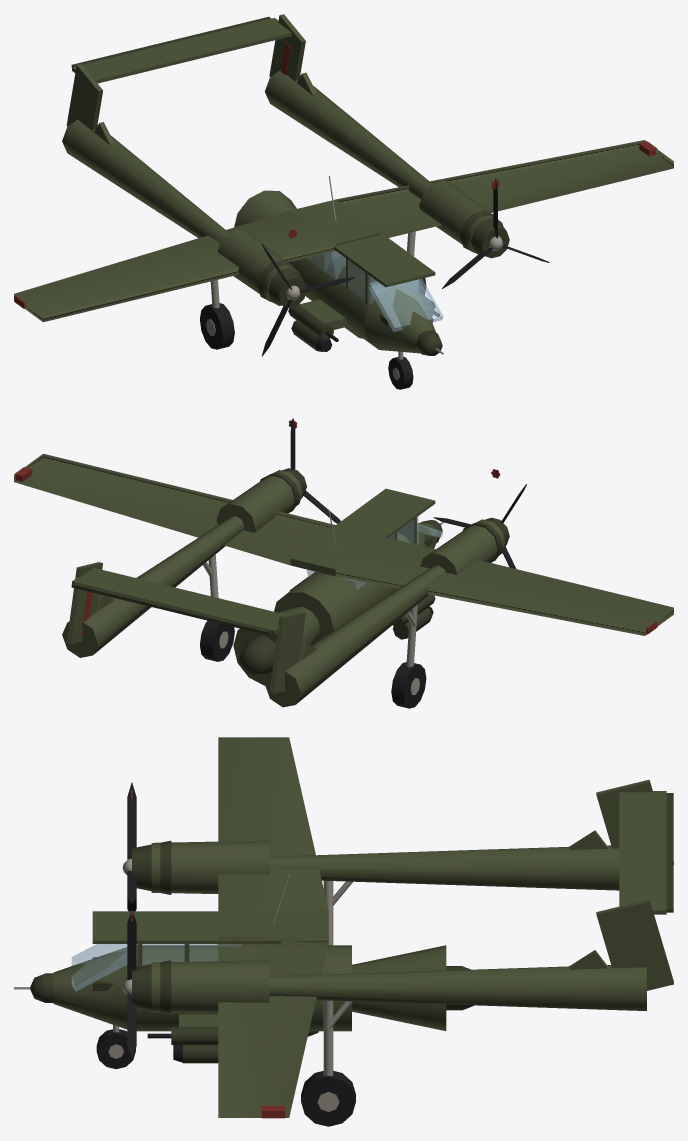
File: ov-10-bronco-forward.glb
3 views of the same model, one above another, from view 1: azimuth 30°, elevation 25°; view 2: azimuth 150°, elevation 25°; view 3: azimuth 270°, elevation 25° (orthographic). The views are drawn at different scales.
Visible parts, largest first — view 1: Mesh_MainWingRight, Mesh_MainWingLeft, Mesh_BoomL, Mesh_BoomR, Mesh_Tailplane, Mesh_PodNoseTaper, Mesh_PodCabinBase, Mesh_FrameTop, Mesh_NacelleL, Mesh_CanopyFront, Mesh_NacelleR, Mesh_WingCenter (+12 smaller); view 2: Mesh_MainWingRight, Mesh_MainWingLeft, Mesh_BoomR, Mesh_BoomL, Mesh_Tailplane, Mesh_PodCabinBase, Mesh_NacelleL, Mesh_FrameTop, Mesh_NacelleR, Mesh_WingCenter, Mesh_FinR, Mesh_Elevator (+8 smaller); view 3: Mesh_MainWingRight, Mesh_MainWingLeft, Mesh_BoomL, Mesh_BoomR, Mesh_Tailplane, Mesh_NacelleL, Mesh_NacelleR, Mesh_FrameTop, Mesh_FinL, Mesh_PodNoseTaper, Mesh_PodCabinBase, Mesh_PodRearTaper (+15 smaller).
Boxes of the visible parts, left/top/right/bottom form: Mesh_MainWingRight: left=14, top=210, right=335, bottom=322; Mesh_MainWingLeft: left=336, top=140, right=673, bottom=237; Mesh_BoomL: left=265, top=70, right=431, bottom=199; Mesh_BoomR: left=62, top=119, right=229, bottom=242; Mesh_Tailplane: left=72, top=18, right=291, bottom=83; Mesh_PodNoseTaper: left=363, top=286, right=435, bottom=353; Mesh_PodCabinBase: left=288, top=251, right=408, bottom=346; Mesh_FrameTop: left=334, top=220, right=435, bottom=287; Mesh_NacelleL: left=419, top=180, right=502, bottom=254; Mesh_CanopyFront: left=368, top=279, right=443, bottom=331; Mesh_NacelleR: left=217, top=230, right=300, bottom=305; Mesh_WingCenter: left=291, top=199, right=380, bottom=245; Mesh_MainWingRight: left=335, top=536, right=673, bottom=635; Mesh_MainWingLeft: left=14, top=453, right=335, bottom=565; Mesh_BoomR: left=265, top=565, right=445, bottom=707; Mesh_BoomL: left=62, top=516, right=244, bottom=657; Mesh_Tailplane: left=72, top=568, right=286, bottom=634; Mesh_PodCabinBase: left=274, top=533, right=417, bottom=643; Mesh_NacelleL: left=216, top=470, right=302, bottom=532; Mesh_FrameTop: left=309, top=488, right=435, bottom=544; Mesh_NacelleR: left=420, top=519, right=505, bottom=575; Mesh_WingCenter: left=290, top=525, right=380, bottom=576; Mesh_FinR: left=269, top=611, right=305, bottom=693; Mesh_Elevator: left=71, top=582, right=271, bottom=635; Mesh_MainWingRight: left=218, top=737, right=328, bottom=909; Mesh_MainWingLeft: left=218, top=936, right=328, bottom=1117; Mesh_BoomL: left=269, top=965, right=646, bottom=1010; Mesh_BoomR: left=269, top=845, right=619, bottom=890; Mesh_Tailplane: left=619, top=791, right=666, bottom=914; Mesh_NacelleL: left=151, top=960, right=269, bottom=1013; Mesh_NacelleR: left=151, top=840, right=269, bottom=893; Mesh_FrameTop: left=92, top=911, right=281, bottom=943; Mesh_FinL: left=596, top=899, right=673, bottom=990; Mesh_PodNoseTaper: left=53, top=947, right=127, bottom=1029; Mesh_PodCabinBase: left=136, top=945, right=351, bottom=1031; Mesh_PodRearTaper: left=352, top=945, right=446, bottom=1030.
Size of the model in its own units: 11.25 by 3.17 by 8.39.
Materials: 2 (2 with a texture image).
